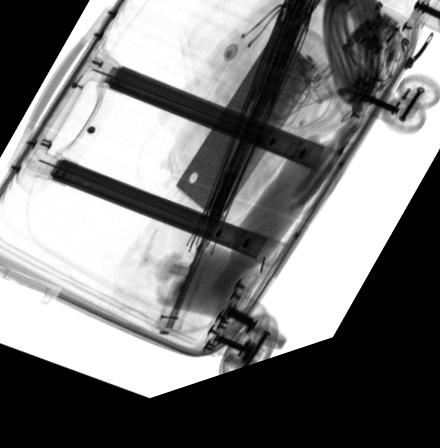Knife: (174, 0, 335, 233)
